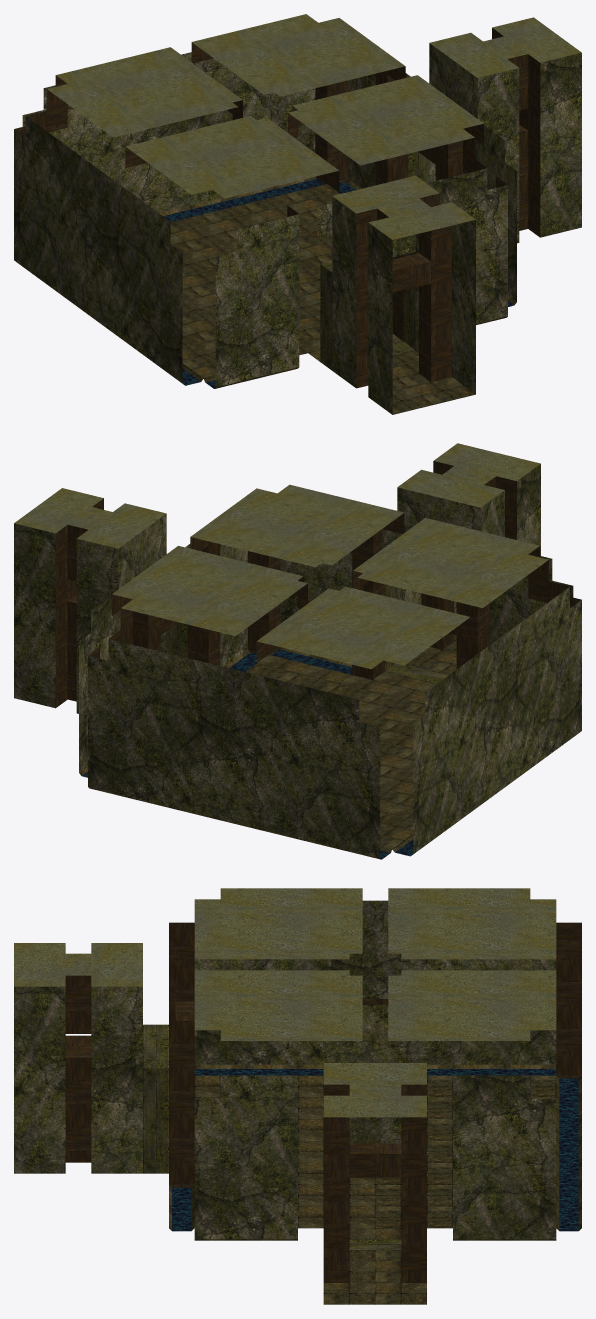
The model's file is wooddungeon5cell.gltf.
3 views of the same model, one above another, from view 1: azimuth 30°, elevation 25°; view 2: azimuth 150°, elevation 25°; view 3: azimuth 270°, elevation 25° (orthographic). The views are drawn at different scales.
Parts seen in each view (by area): view 1: wooddungeon5cell; view 2: wooddungeon5cell; view 3: wooddungeon5cell.
Boxes of the visible parts, x1,y1,x2,y2 form: wooddungeon5cell: [14, 14, 581, 414]; wooddungeon5cell: [14, 443, 581, 859]; wooddungeon5cell: [14, 888, 581, 1304].
Size of the model in its own units: 44 by 16.25 by 44.
9 materials, 9 textured.
